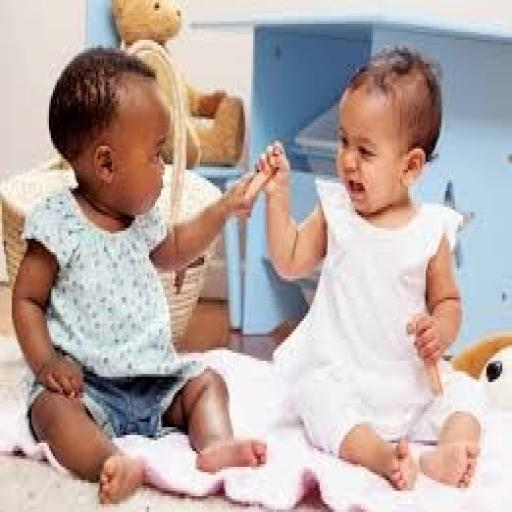baby: (12, 48, 266, 504), (257, 48, 484, 490)
